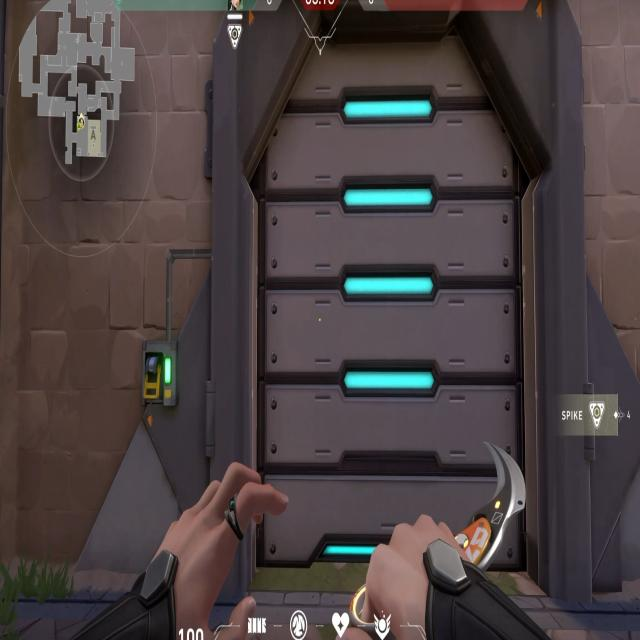A_Door: (221, 0, 563, 597)
